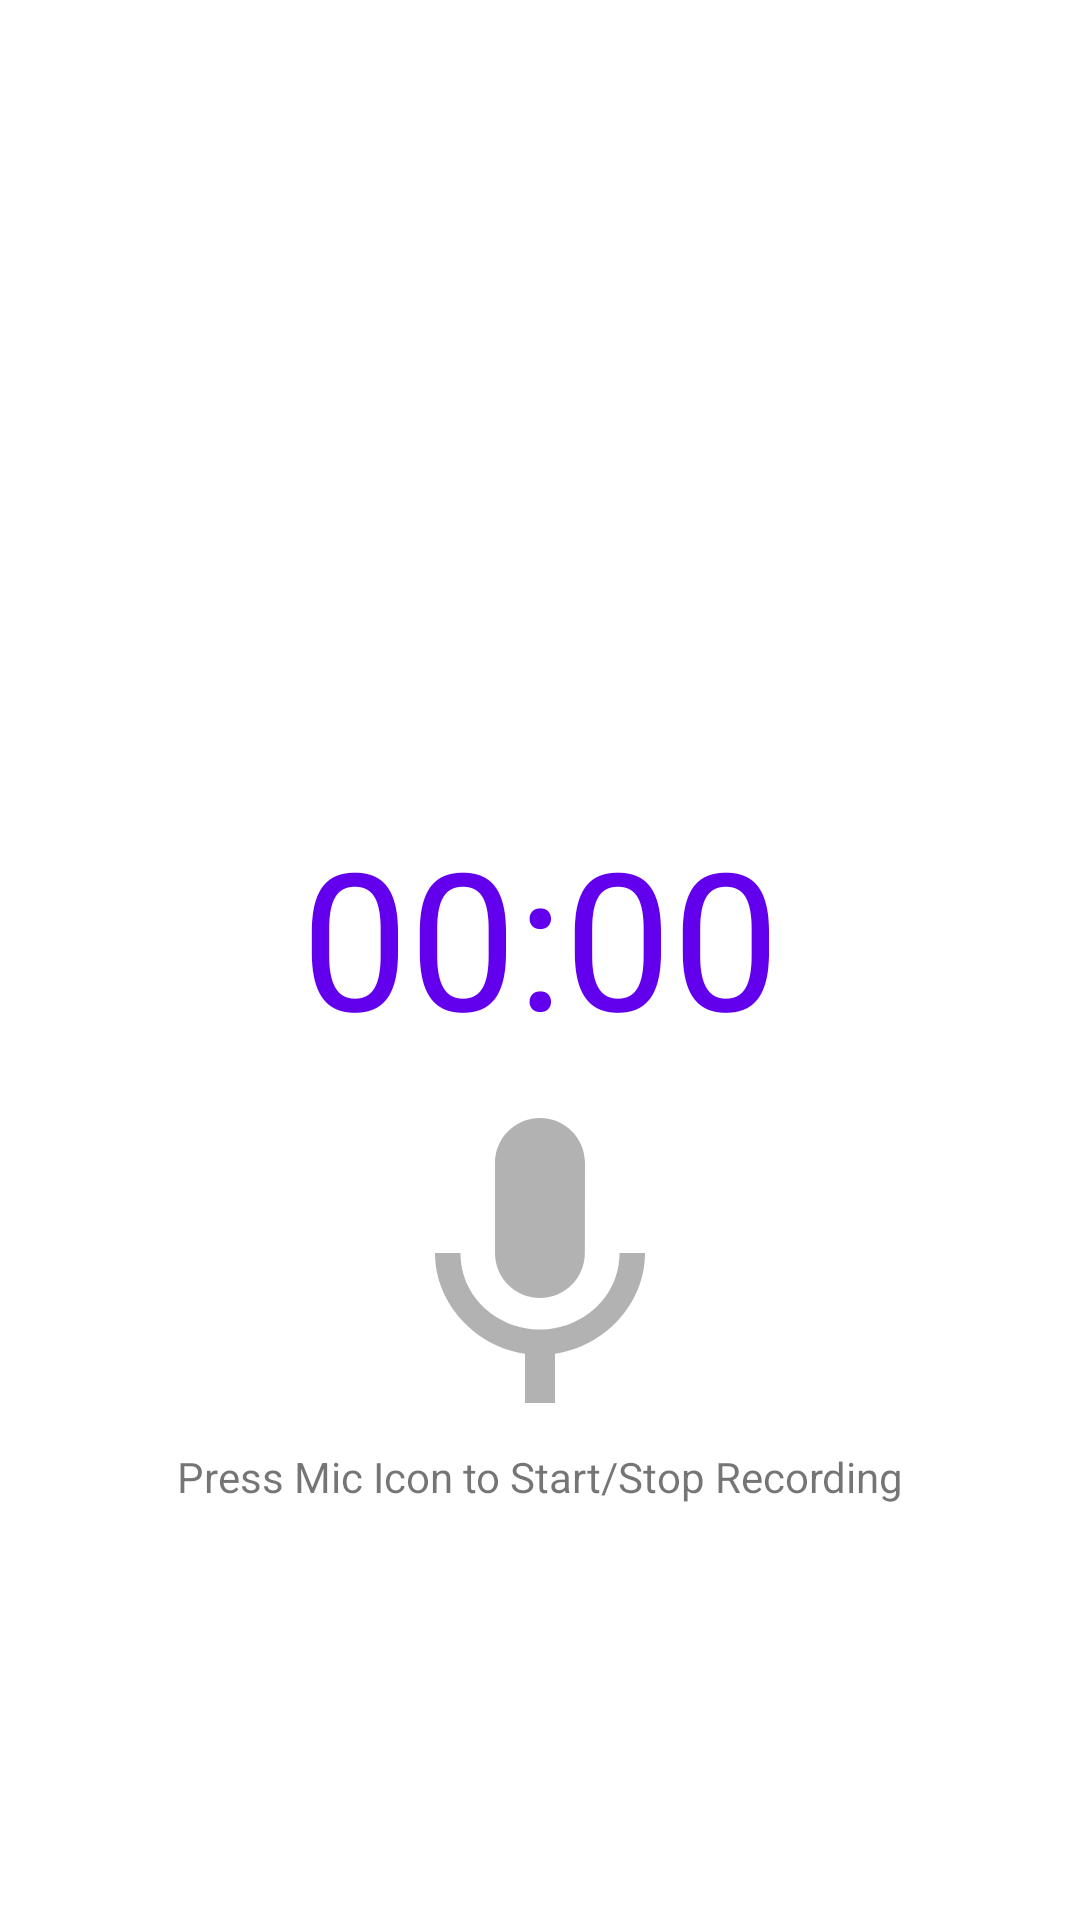

Icons on this 1080x1920 Android screen, each with the point to tap as point (x, y):
mic desabled: point (540, 1260)
